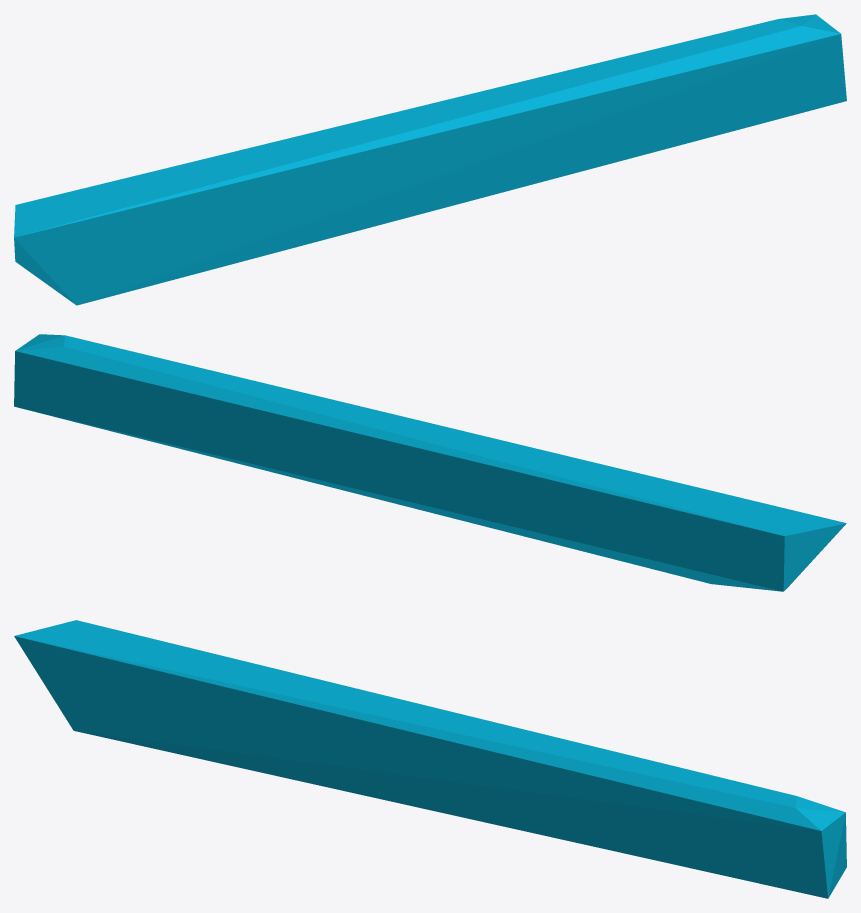
The model's file is organic_bin_convex_piece_010.obj.
3 renders of one model, top to bottom at view 1: azimuth 30°, elevation 25°; view 2: azimuth 150°, elevation 25°; view 3: azimuth 330°, elevation 25°, orthographic. The views are drawn at different scales.
Size of the model in its own units: 0.3165 by 0.033 by 0.0213.
